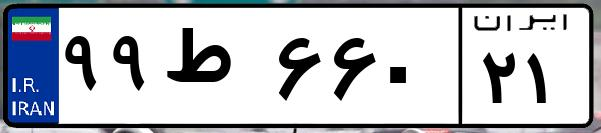0: (385, 28, 445, 110)
1: (525, 38, 570, 115)
2: (475, 38, 525, 113)
6: (270, 28, 330, 110), (330, 28, 385, 110)
9: (57, 26, 110, 100), (110, 28, 158, 98)
ط: (158, 20, 270, 120)
